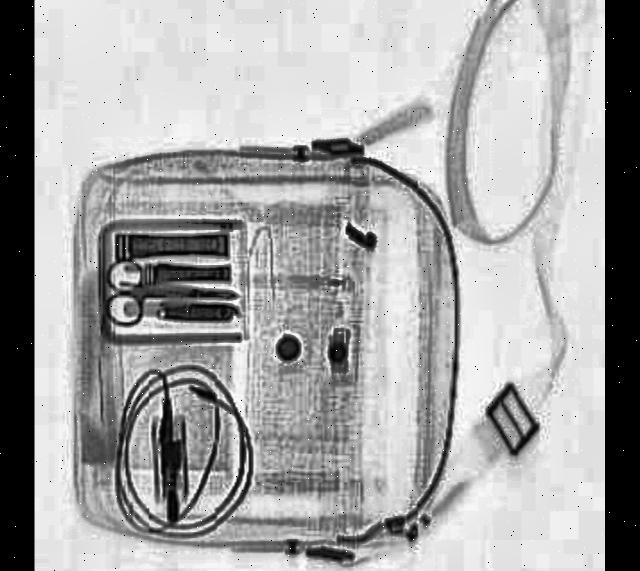Scissors: (104, 254, 235, 325)
